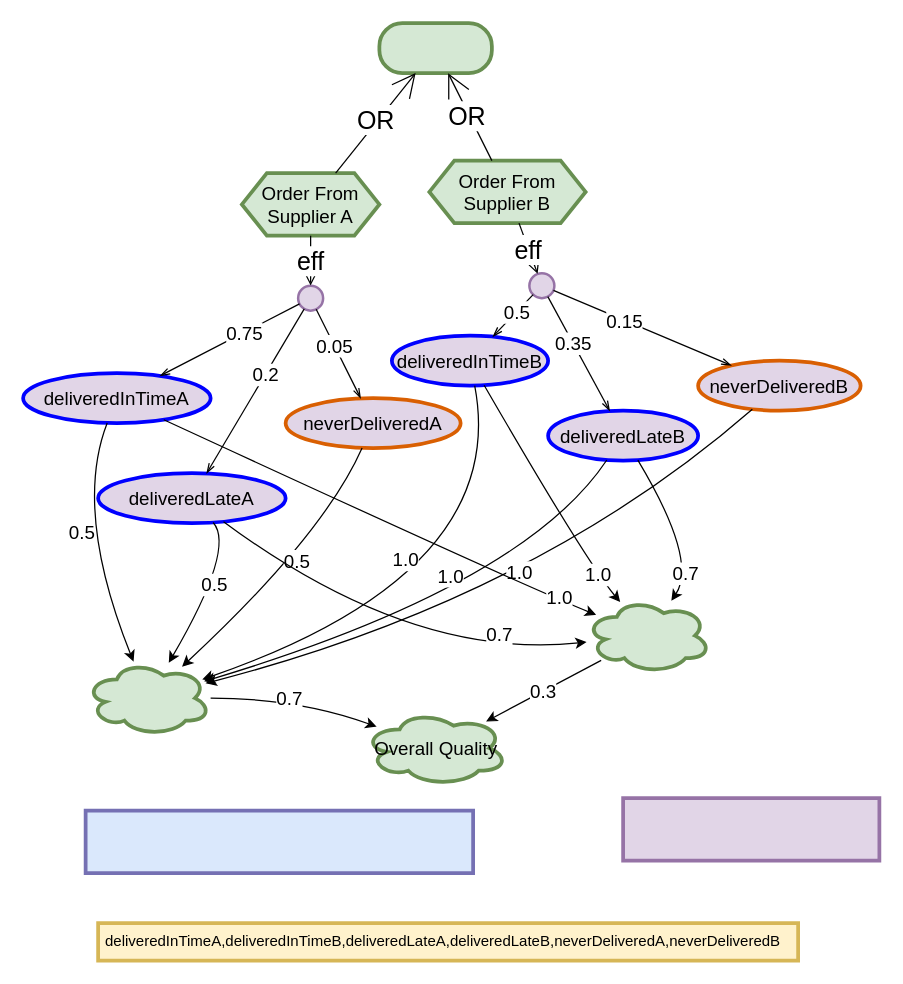
Some shapes in this 903 by 984 pixel diagram are drawn without their labels. Here are the shapes that lost their labels. From the top down, the centre of each, then its label:
At point (435, 47): "Order Material".
At point (647, 635): "Happy Customer".
At point (147, 697): "Cost".
At point (278, 841): "cost:=0, overallQuality:=0, happyCustomer:=0".
At point (751, 829): "cost, happyCustomer".
